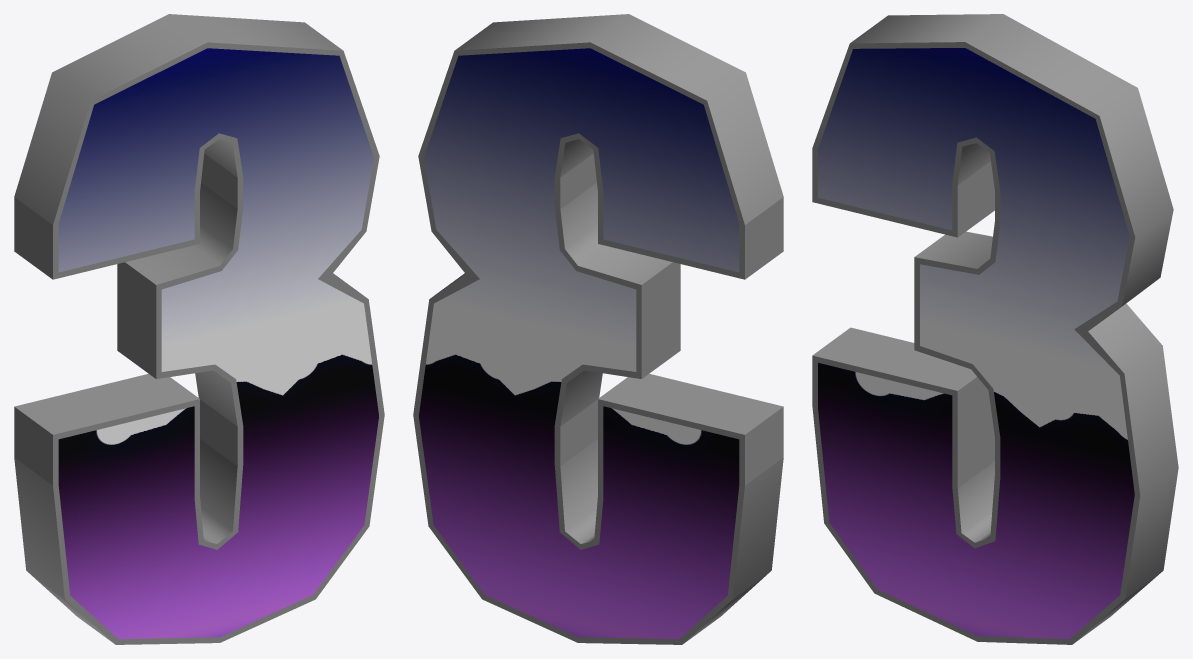
3 views of the same model, side by side, from view 1: azimuth 30°, elevation 25°; view 2: azimuth 150°, elevation 25°; view 3: azimuth 330°, elevation 25° (orthographic).
Parts seen in each view (by area): view 1: 3, 3_outline; view 2: 3, 3_outline; view 3: 3, 3_outline.
Part boxes in pixels (x1,y1,x2,y2): 3: (58, 48, 378, 639); 3_outline: (14, 14, 384, 644); 3: (419, 48, 739, 639); 3_outline: (413, 14, 783, 644); 3: (818, 48, 1134, 639); 3_outline: (812, 14, 1178, 644).
Size of the model in its own units: 59.3 by 103 by 12.
2 materials, 1 textured.
